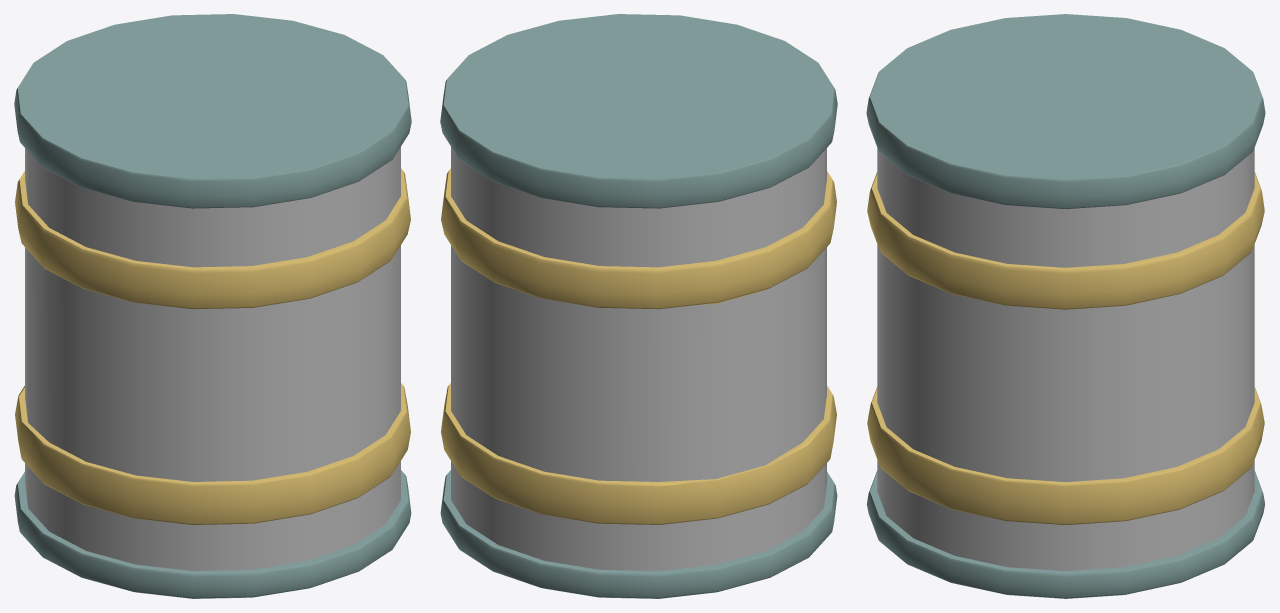
File: Barrel2_colourcoded.fbx
3 renders of one model, left to right at view 1: azimuth 30°, elevation 25°; view 2: azimuth 150°, elevation 25°; view 3: azimuth 270°, elevation 25°, orthographic.
Visible parts, largest first — view 1: Barrel; view 2: Barrel; view 3: Barrel.
Boxes of the visible parts, x1,y1,x2,y2 form: Barrel: [14, 14, 411, 598]; Barrel: [440, 14, 837, 598]; Barrel: [866, 14, 1265, 598].
Size of the model in its own units: 2.12 by 2.47 by 2.12.
